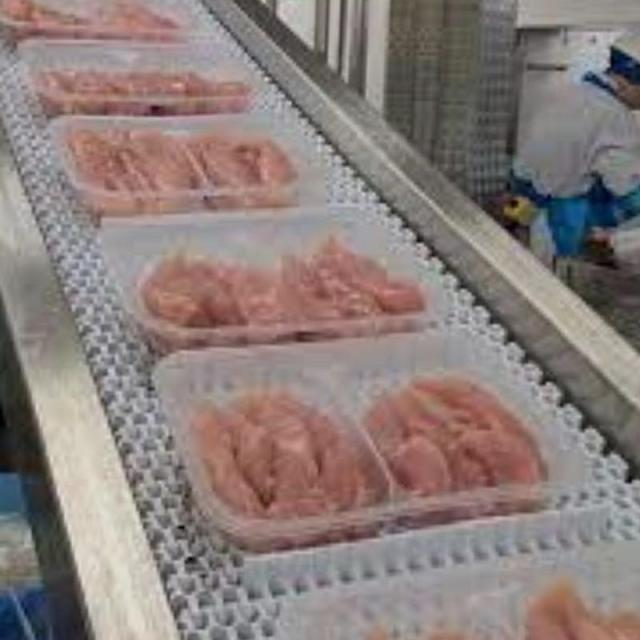food: (157, 339, 570, 542), (125, 208, 452, 344), (61, 111, 326, 219)
